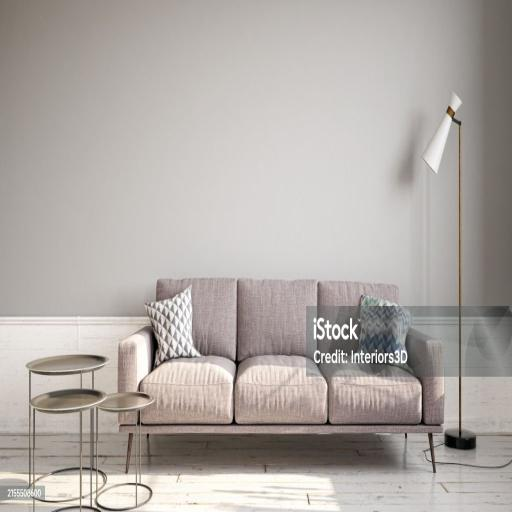back_cushion: (157, 278, 399, 360)
base: (142, 424, 442, 434)
left_arm: (408, 329, 444, 425)
legs: (428, 433, 435, 472), (126, 434, 132, 472)
right_arm: (118, 326, 156, 390)
seat_cushion: (142, 355, 421, 424)
stallion-sofa: (118, 279, 444, 472), (120, 413, 134, 472)
